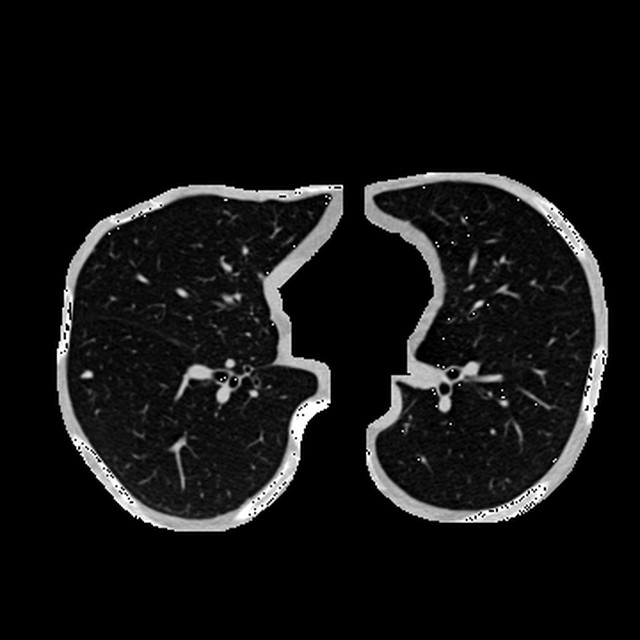PN: (82, 370, 92, 380)
